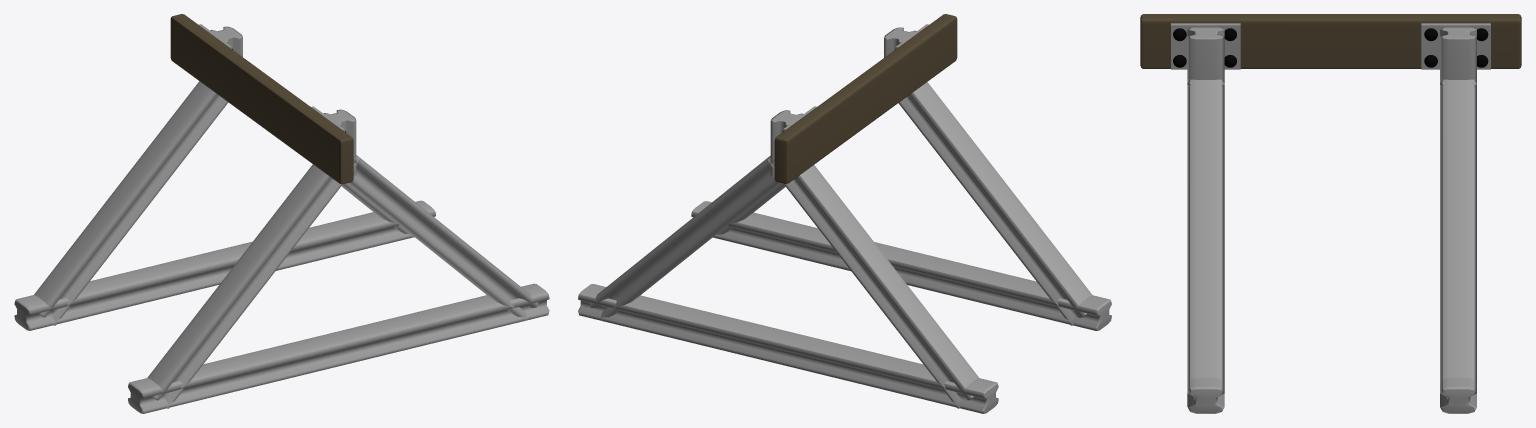
File: End Rail 1.fbx
3 views of the same model, side by side, from view 1: azimuth 30°, elevation 25°; view 2: azimuth 150°, elevation 25°; view 3: azimuth 270°, elevation 25° (orthographic). The views are drawn at different scales.
Visible parts, largest first — view 1: pasted__pCube40, pasted__pCube15, pasted__pCube63, pasted__pCube56, pasted__pCube55, pasted__pCube58, pasted__pCube59, pasted__pCube57; view 2: pasted__pCube15, pasted__pCube40, pasted__pCube63, pasted__pCube55, pasted__pCube56, pasted__pCube57, pasted__pCube60, pasted__pCube58; view 3: pasted__pCube63, pasted__pCube58, pasted__pCube57, pasted__pCube59, pasted__pCube60, pasted__pCube40, pasted__pCube15, pasted__pCube61, pasted__pCube62.
Part boxes in pixels (x1=…): pasted__pCube40: x1=128, y1=283, x2=549, y2=413; pasted__pCube15: x1=14, y1=200, x2=435, y2=330; pasted__pCube63: x1=170, y1=14, x2=353, y2=184; pasted__pCube56: x1=147, y1=157, x2=359, y2=408; pasted__pCube55: x1=34, y1=81, x2=228, y2=325; pasted__pCube58: x1=348, y1=155, x2=537, y2=320; pasted__pCube59: x1=323, y1=109, x2=356, y2=176; pasted__pCube57: x1=341, y1=183, x2=413, y2=238; pasted__pCube15: x1=578, y1=284, x2=998, y2=413; pasted__pCube40: x1=691, y1=201, x2=1111, y2=330; pasted__pCube63: x1=774, y1=14, x2=957, y2=183; pasted__pCube55: x1=767, y1=158, x2=978, y2=408; pasted__pCube56: x1=898, y1=82, x2=1092, y2=325; pasted__pCube57: x1=589, y1=155, x2=780, y2=321; pasted__pCube60: x1=770, y1=110, x2=803, y2=177; pasted__pCube58: x1=714, y1=183, x2=785, y2=238; pasted__pCube63: x1=1140, y1=14, x2=1521, y2=68; pasted__pCube58: x1=1187, y1=79, x2=1224, y2=394; pasted__pCube57: x1=1440, y1=79, x2=1476, y2=394; pasted__pCube59: x1=1187, y1=27, x2=1224, y2=79; pasted__pCube60: x1=1440, y1=27, x2=1476, y2=79; pasted__pCube40: x1=1187, y1=378, x2=1224, y2=413; pasted__pCube15: x1=1440, y1=378, x2=1476, y2=413; pasted__pCube61: x1=1171, y1=23, x2=1240, y2=69; pasted__pCube62: x1=1421, y1=23, x2=1490, y2=69.
Bounding box in the file's own units: 8.72 × 5.08 × 6.33.
